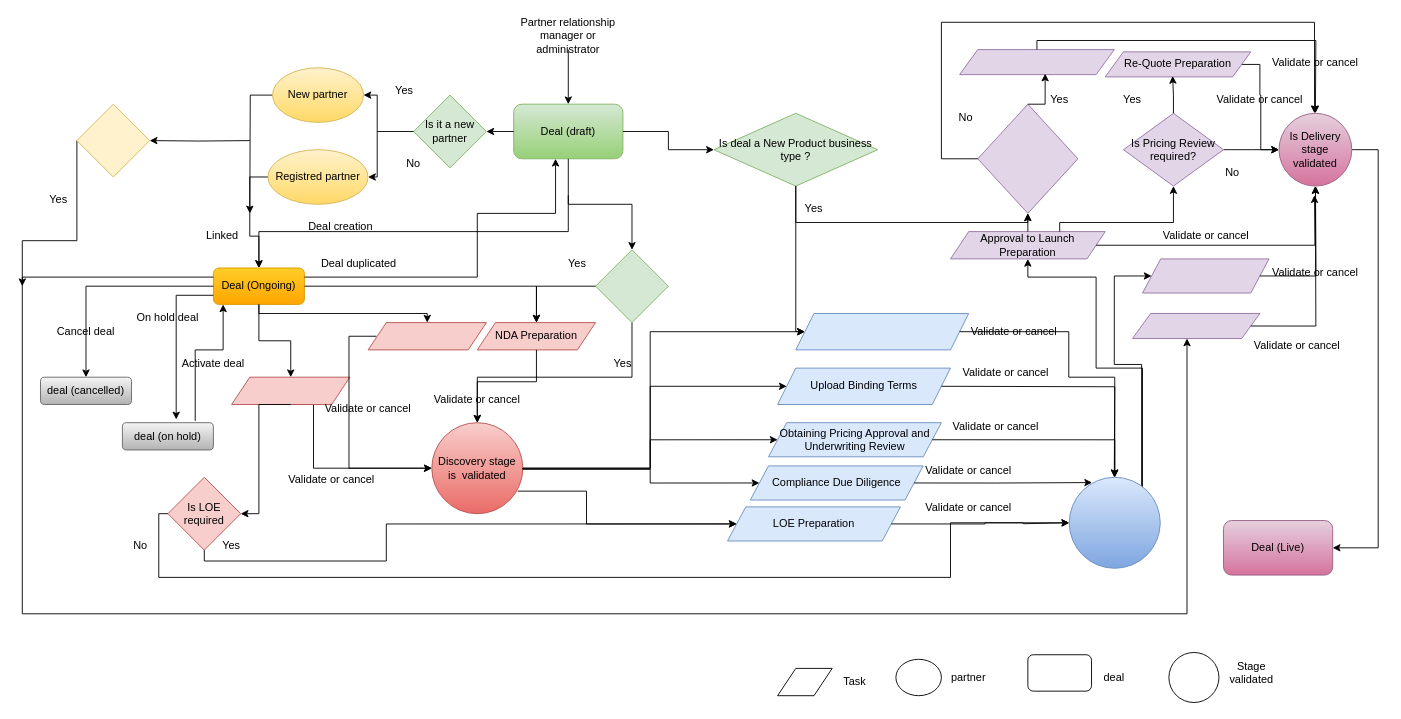
The diagram is 1401 pixels wide and 719 high, and some of its shapes have lost their labels. The centre of each missing label's shape, as x and y in pixels:
Country Legal Due Diligence: the point at 1196,326
Heads Up Preparation: the point at 426,336
Indicative Quotes Preparation: the point at 290,390
Is Design stage validated: the point at 1114,522
Is NDA required: the point at 631,286
Is there a need for Viability Report Resubmission?: the point at 1027,158
New territory: the point at 113,140
Treaty Preparation: the point at 1205,275
Viability Report Preparation: the point at 882,331
Viabilty Report Resubmission: the point at 1036,62
